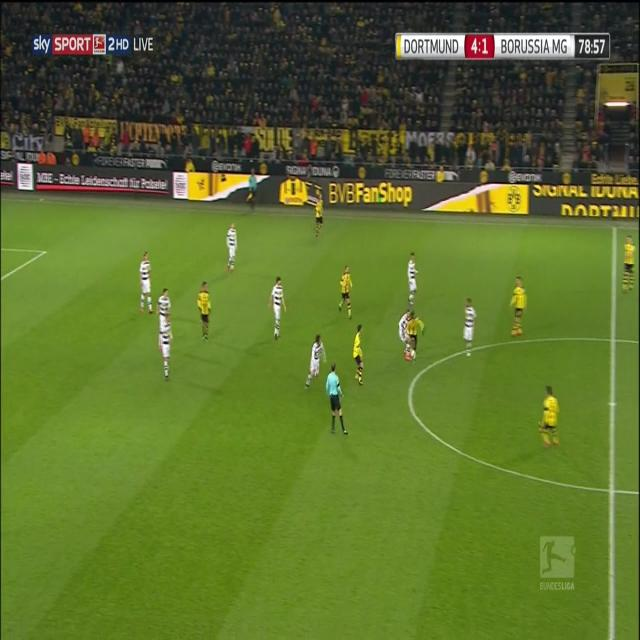Ball: (408, 348, 417, 364)
Player: (193, 276, 217, 344), (266, 275, 288, 346), (538, 382, 560, 453), (507, 272, 528, 342), (460, 294, 481, 361), (303, 336, 327, 393), (138, 246, 156, 320), (620, 233, 638, 300), (350, 321, 366, 390), (338, 263, 354, 324), (407, 307, 427, 355), (404, 250, 421, 304), (225, 220, 239, 277), (161, 311, 172, 379), (397, 307, 410, 356), (312, 191, 324, 243), (158, 289, 172, 319)
Referee: (324, 360, 352, 440), (246, 166, 258, 217)
